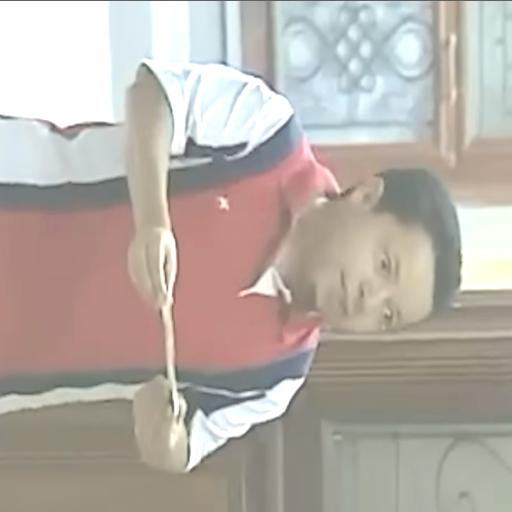fouchika: (304, 169, 460, 330)
